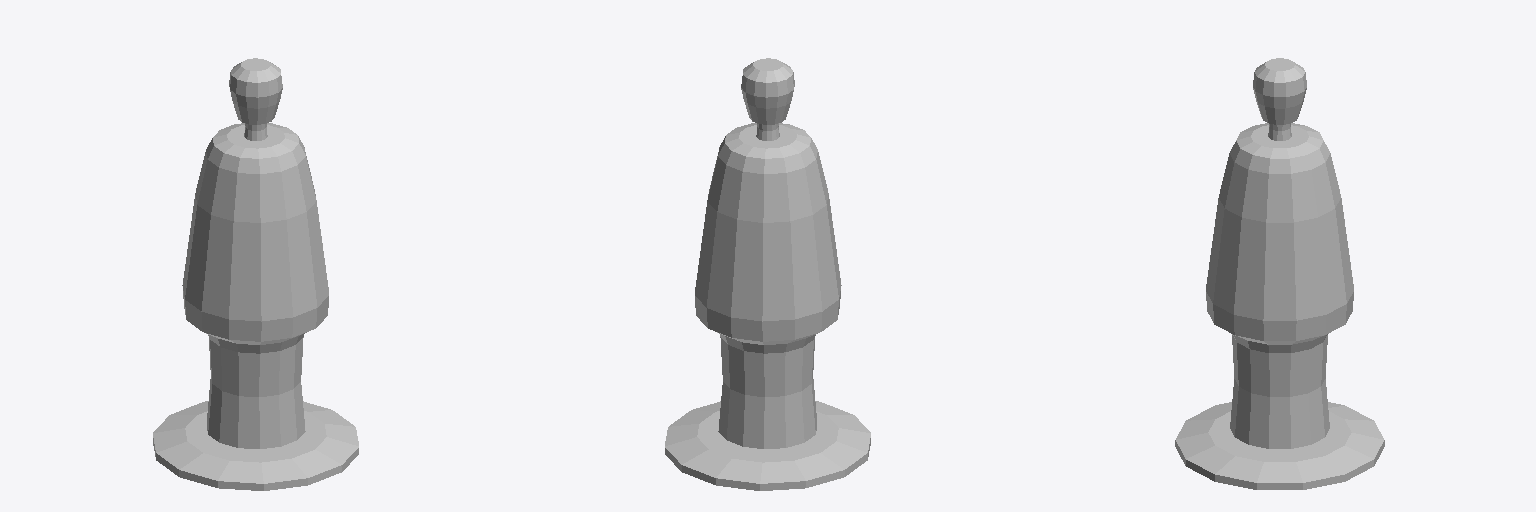
Rendered from human-tall_005.obj.
3 renders of one model, left to right at view 1: azimuth 30°, elevation 25°; view 2: azimuth 150°, elevation 25°; view 3: azimuth 270°, elevation 25°, orthographic.
Visible parts, largest first — view 1: human-tall.005; view 2: human-tall.005; view 3: human-tall.005.
Part boxes in pixels (left/top/right/bottom): human-tall.005: left=153, top=58, right=358, bottom=490; human-tall.005: left=665, top=58, right=870, bottom=490; human-tall.005: left=1175, top=58, right=1384, bottom=489.
Bounding box in the file's own units: 0.85 × 1.76 × 0.8719.